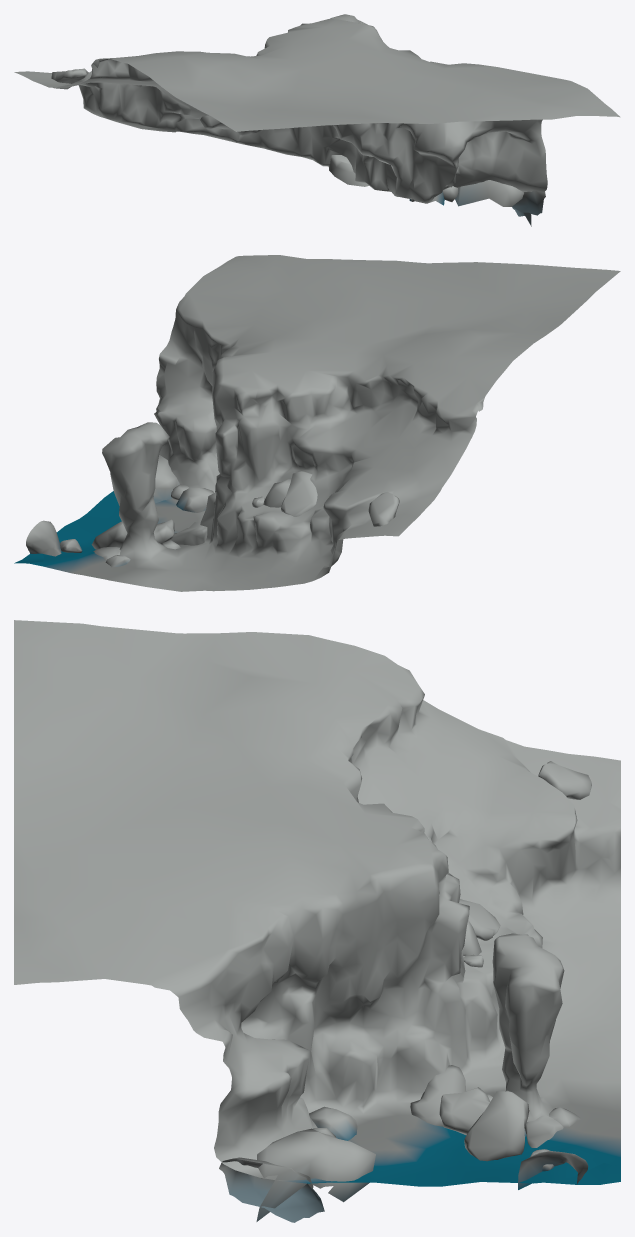
3 renders of one model, top to bottom at view 1: azimuth 30°, elevation 25°; view 2: azimuth 150°, elevation 25°; view 3: azimuth 270°, elevation 25°, orthographic. The views are drawn at different scales.
Parts seen in each view (by area): view 1: G:\FFXIV-MapTools\exports\s1f3\bg\ffxiv\sea_s1\fld\s1f3\bgpl (×11); view 2: G:\FFXIV-MapTools\exports\s1f3\bg\ffxiv\sea_s1\fld\s1f3\bgpl (×19); view 3: G:\FFXIV-MapTools\exports\s1f3\bg\ffxiv\sea_s1\fld\s1f3\bgpl (×23).
Boxes of the visible parts, x1,y1,x2,y2 form: G:\FFXIV-MapTools\exports\s1f3\bg\ffxiv\sea_s1\fld\s1f3\bgpl (×11): (14, 14, 620, 226); G:\FFXIV-MapTools\exports\s1f3\bg\ffxiv\sea_s1\fld\s1f3\bgpl (×19): (14, 255, 620, 591); G:\FFXIV-MapTools\exports\s1f3\bg\ffxiv\sea_s1\fld\s1f3\bgpl (×23): (14, 620, 620, 1222).
Size of the model in its own units: 128 by 80.59 by 128.
